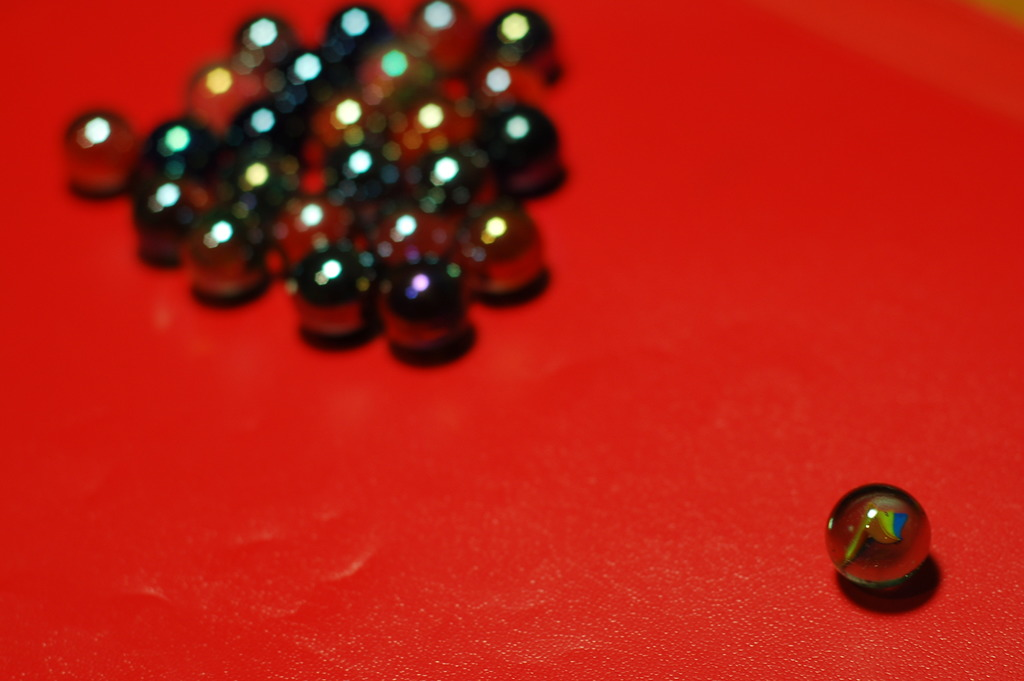Ball: (62, 0, 564, 357), (823, 484, 931, 587)
